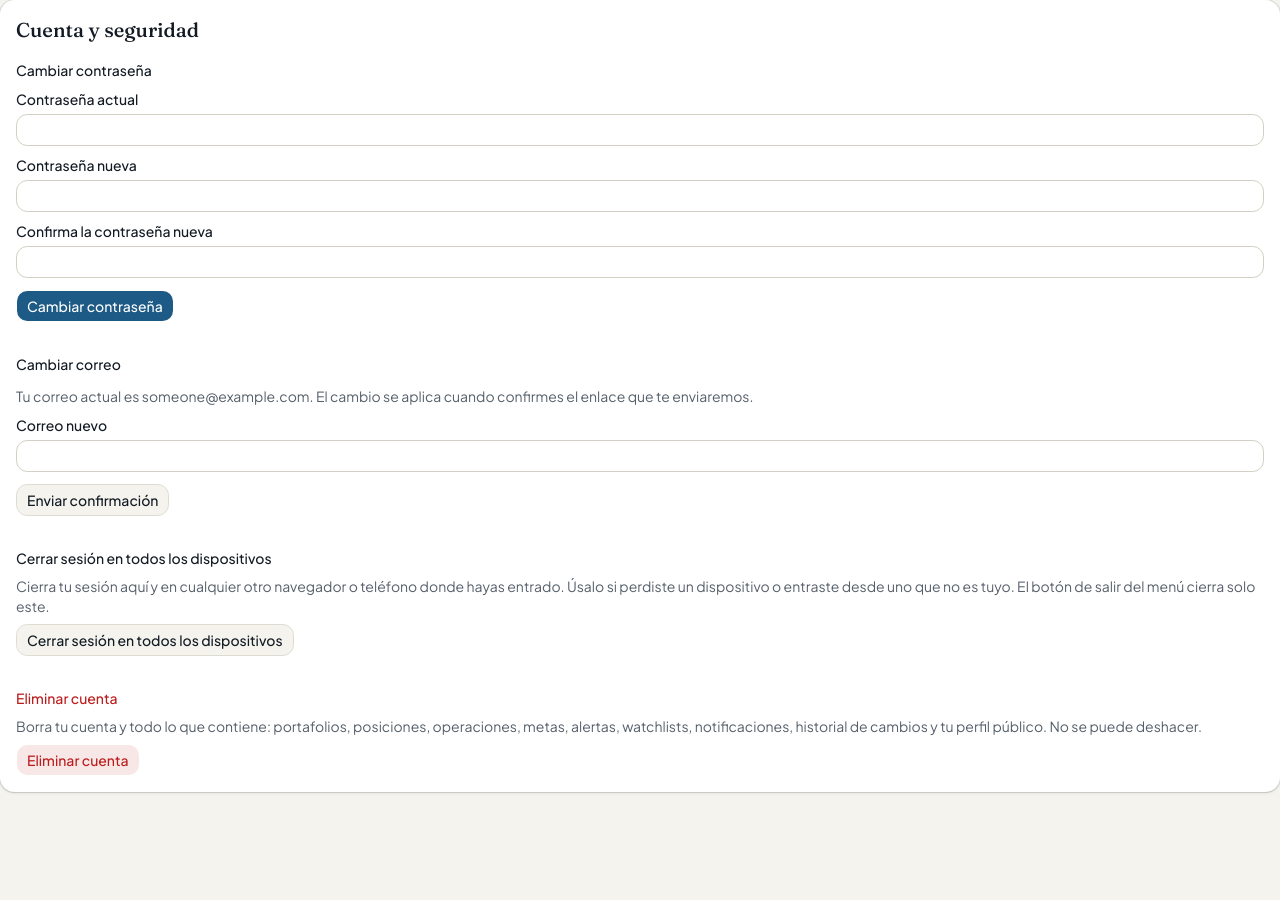
Scenario: AccountSecurity — change password › changes nothing when the current password is wrong
Type "guess" into the password field labelled "Contraseña actual" at (640, 130), box [16,114,1264,146]
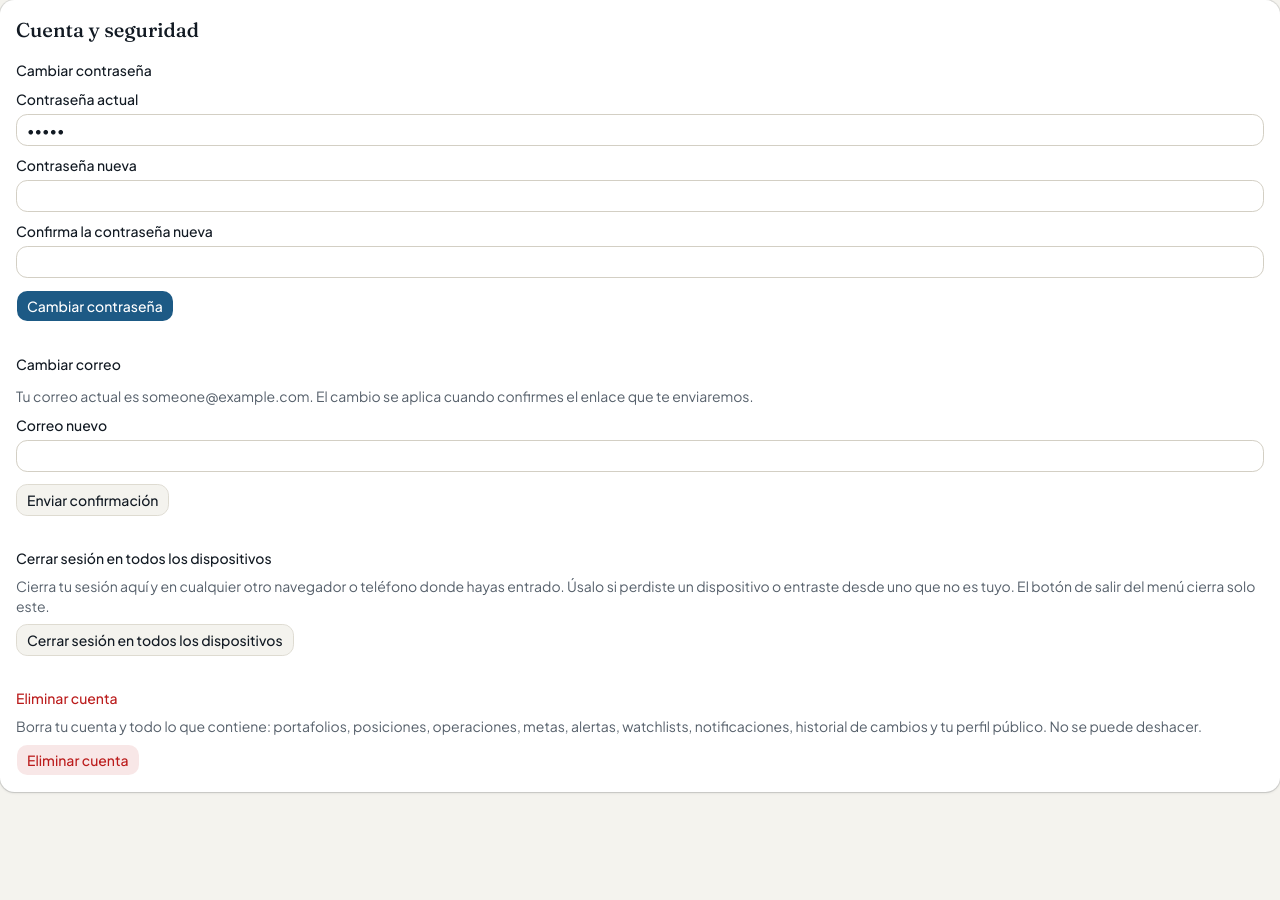
Type "new-secret" into the password field labelled "Contraseña nueva" at (640, 196), box [16,180,1264,212]
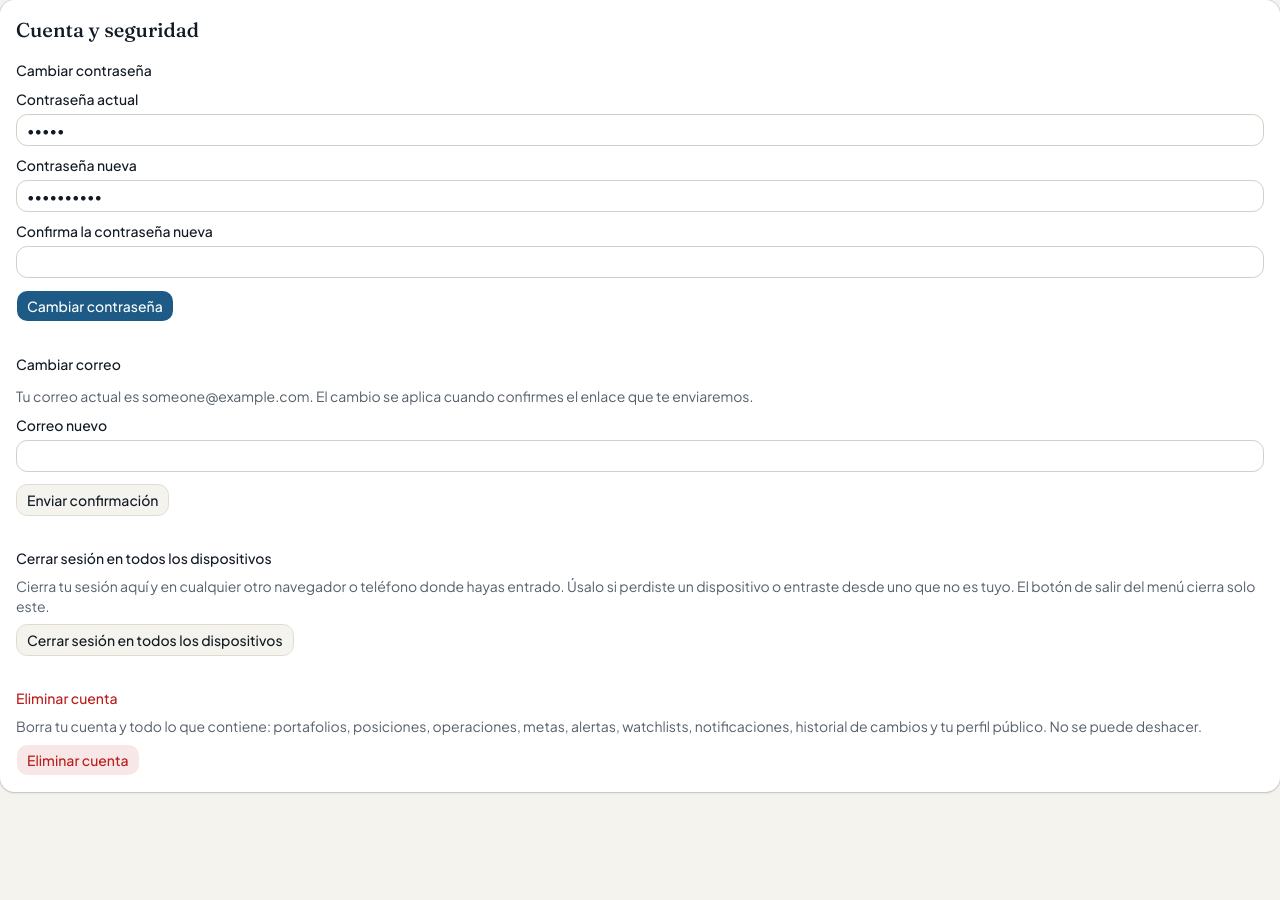
Type "new-secret" into the password field labelled "Confirma la contraseña nueva" at (640, 262), box [16,246,1264,278]
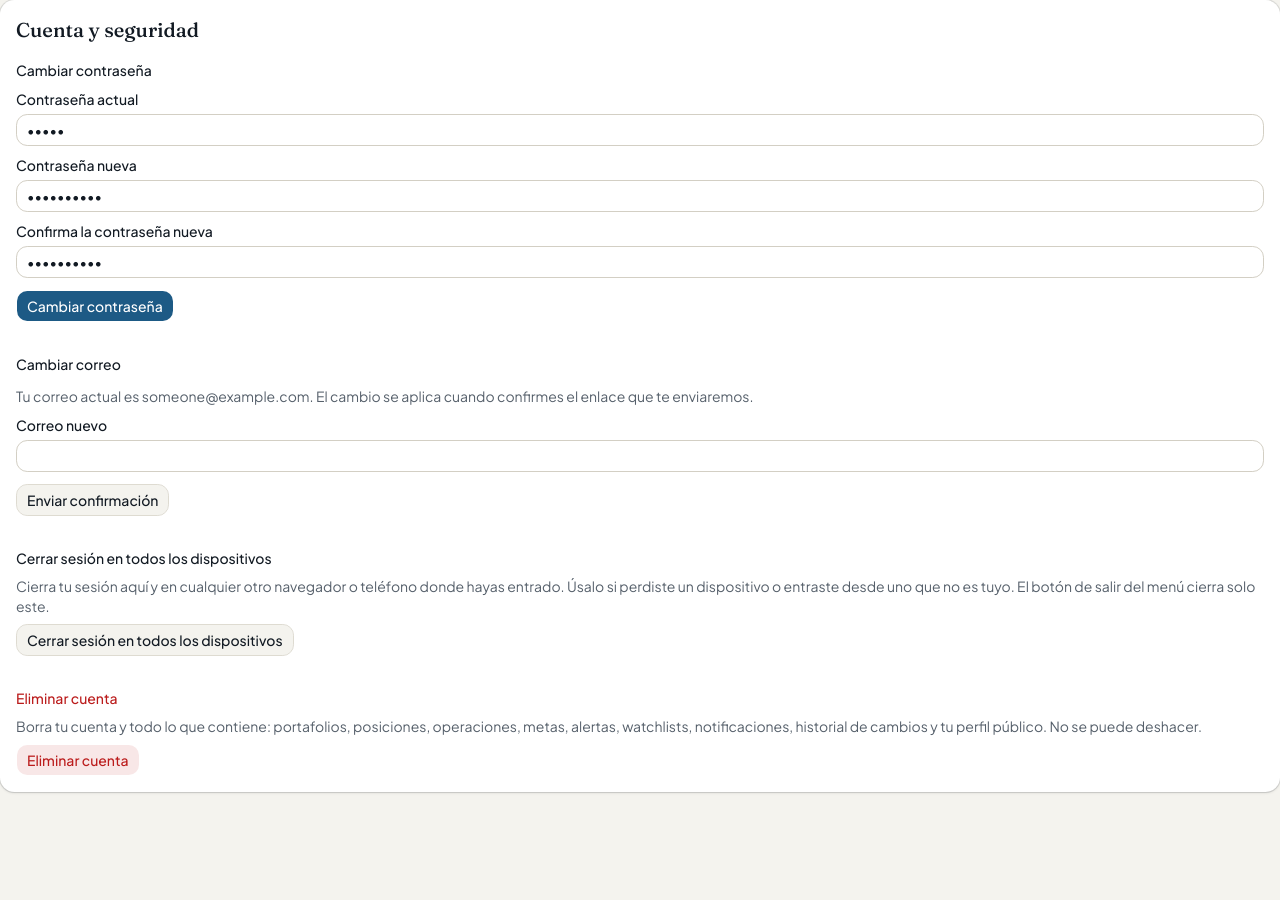
Click the button "Cambiar contraseña" at (95, 306), box [16,290,174,322]
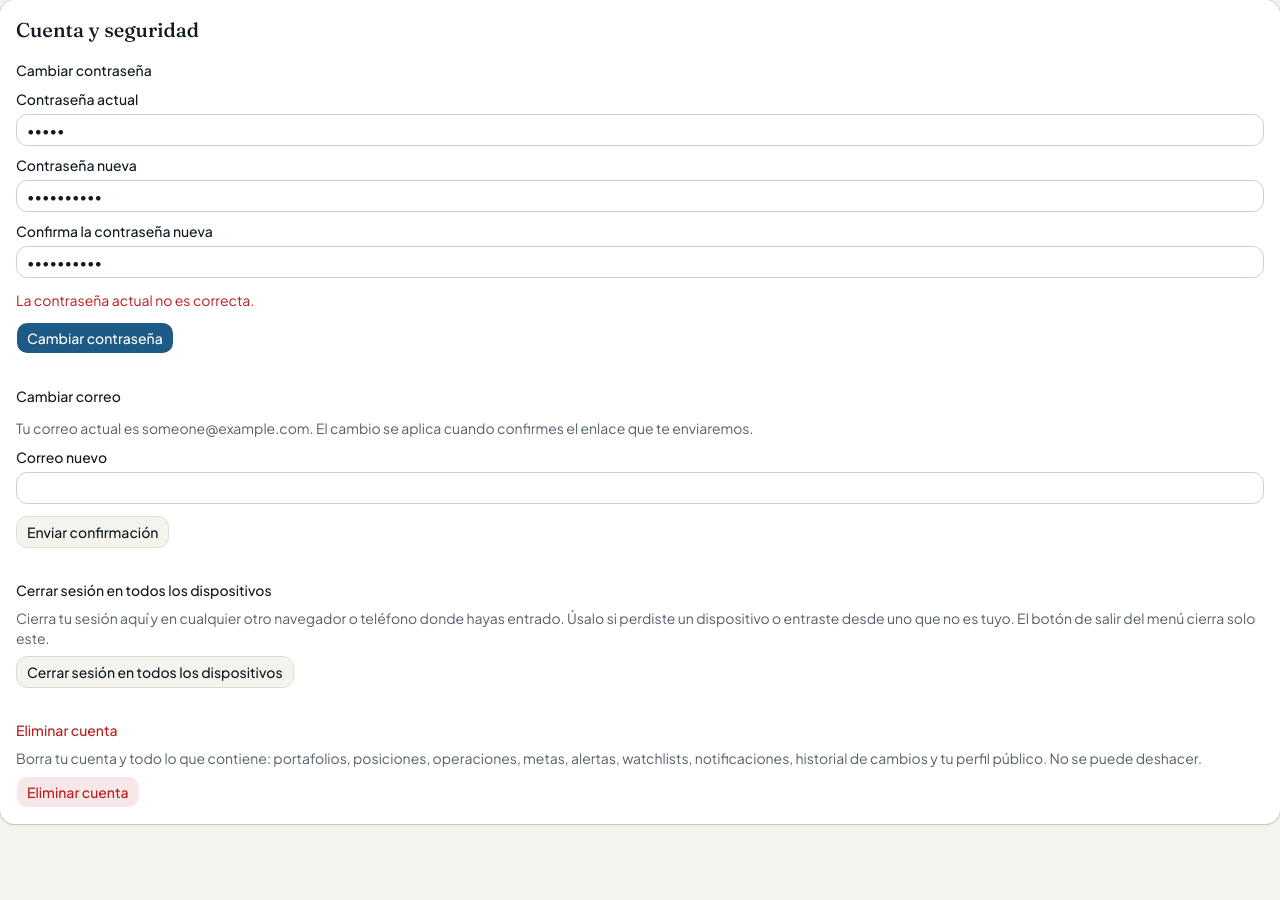
Expected: the text "La contraseña actual no es correcta." is shown, [16,291,254,309]
